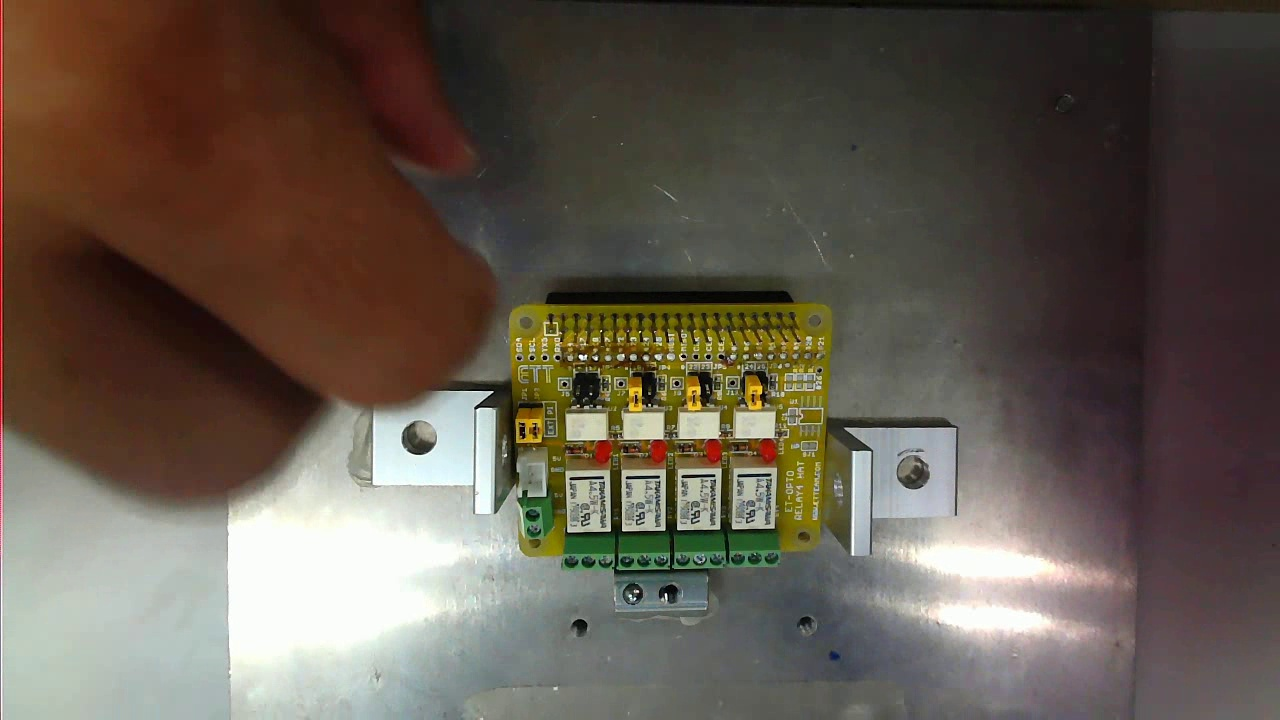can: (493, 295, 837, 575)
